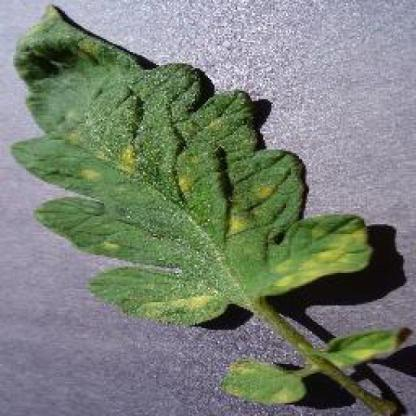Tomato_Leaf_Mold: (11, 6, 372, 320)
